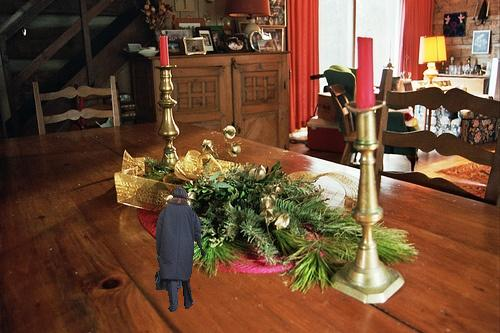tampered: (156, 187, 205, 312)
